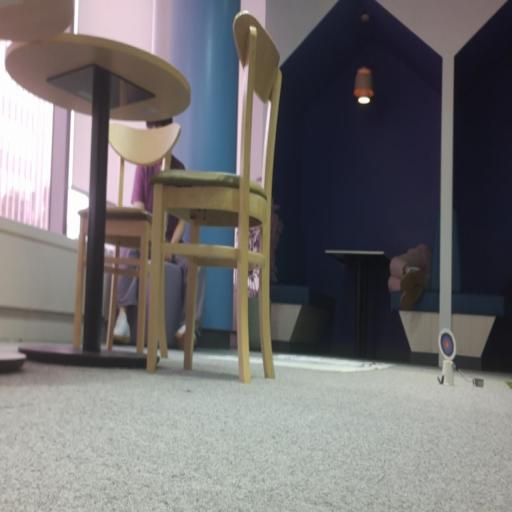target: (438, 329, 455, 361)
